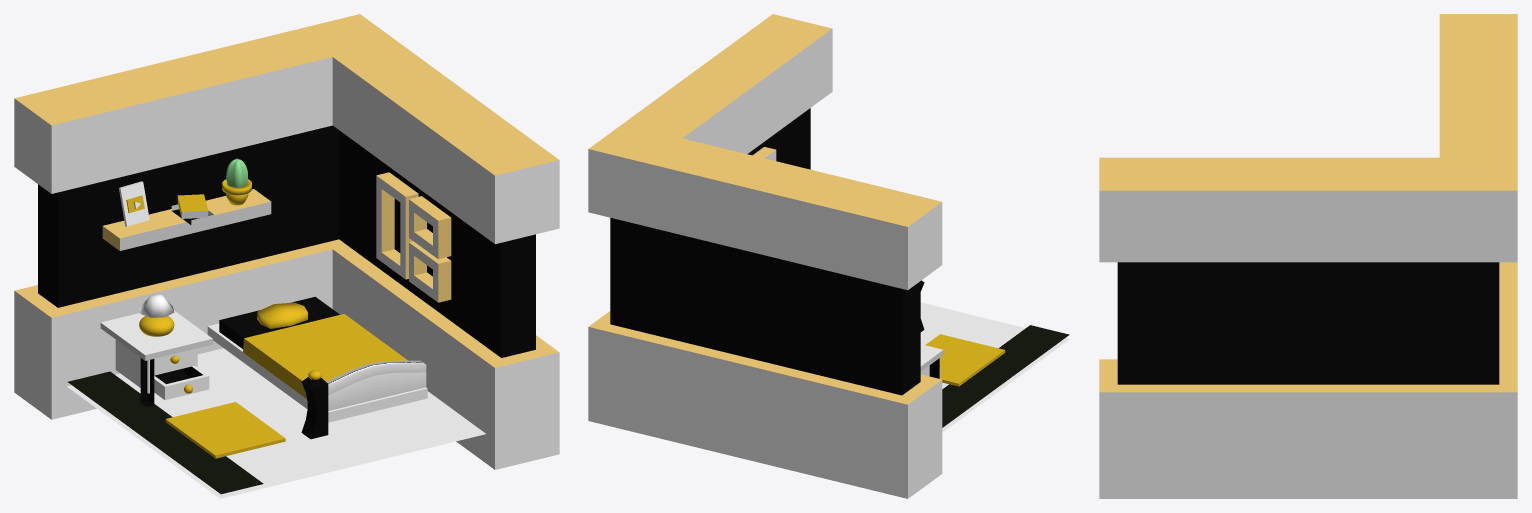
Rendered from room_big.glb.
The picture shows the model from 3 angles, left to right: view 1: azimuth 30°, elevation 25°; view 2: azimuth 150°, elevation 25°; view 3: azimuth 270°, elevation 25°; orthographic projection. The views are drawn at different scales.
Visible parts, largest first — view 1: Cube, Plane.003, Plane.010, Cube.001, Plane.004, Plane.012, Plane.014, Cube.003, Plane.007, Plane.006, Plane.009, Plane.008 (+5 smaller); view 2: Cube, Plane.004, Plane.003, Plane.014; view 3: Cube.
Part boxes in pixels (left/top/right/bottom): Cube: left=14, top=14, right=559, bottom=469; Plane.003: left=67, top=348, right=485, bottom=498; Plane.010: left=243, top=314, right=407, bottom=398; Cube.001: left=376, top=172, right=451, bottom=302; Plane.004: left=68, top=371, right=263, bottom=494; Plane.012: left=100, top=310, right=212, bottom=400; Plane.014: left=165, top=402, right=285, bottom=458; Cube.003: left=102, top=189, right=271, bottom=250; Plane.007: left=326, top=360, right=426, bottom=410; Plane.006: left=207, top=323, right=427, bottom=422; Plane.009: left=219, top=296, right=339, bottom=348; Plane.008: left=301, top=377, right=328, bottom=439; Cube: left=588, top=14, right=942, bottom=498; Plane.004: left=942, top=325, right=1069, bottom=427; Plane.003: left=920, top=302, right=1069, bottom=432; Plane.014: left=925, top=334, right=1005, bottom=386; Cube: left=1099, top=14, right=1517, bottom=498.
Bounding box in the file's own units: 8.16 × 6.64 × 8.16.
